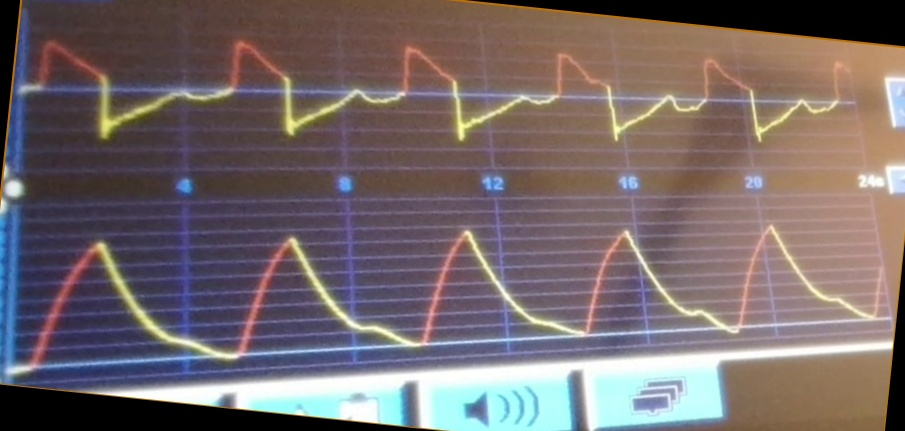Ineffective_effort Flow: (28, 36, 847, 153)
Ineffective_effort Volume: (29, 219, 881, 364)
